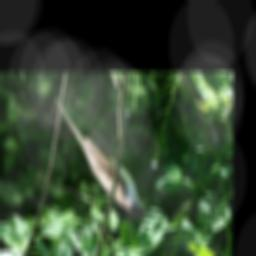Cuckoo: (54, 96, 152, 219)
